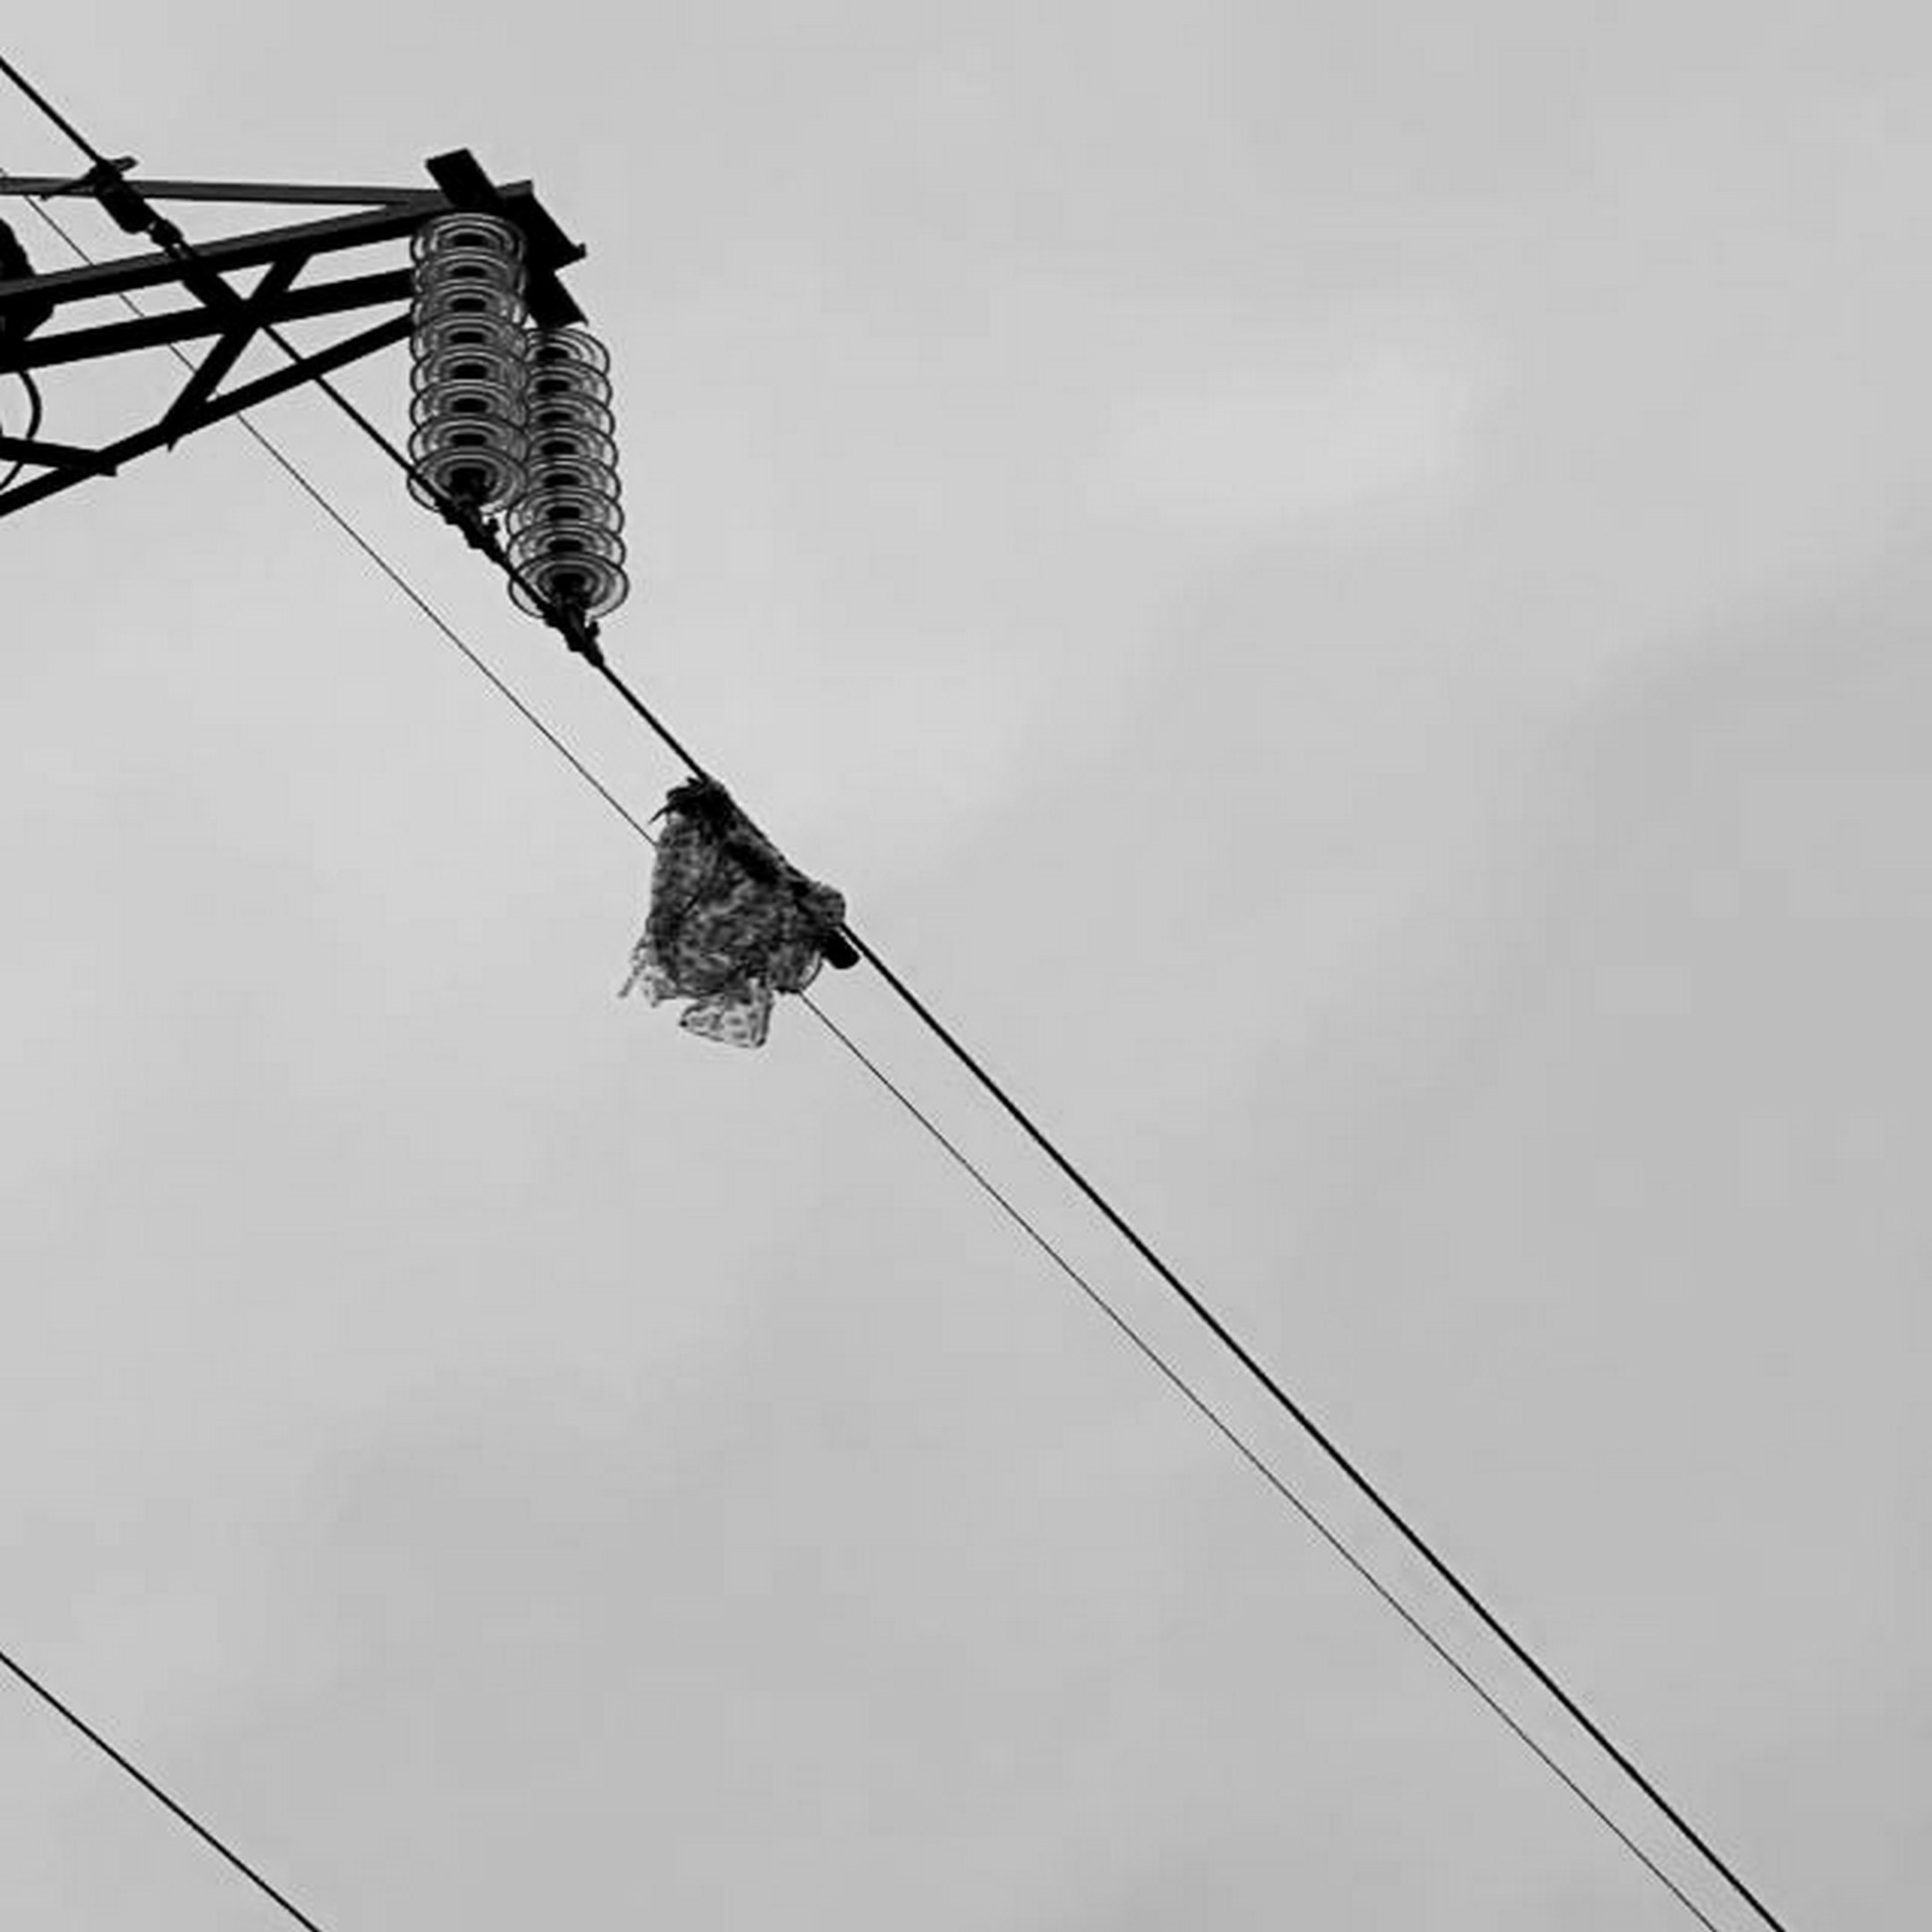wire foreign body: (596, 748, 902, 1090)
